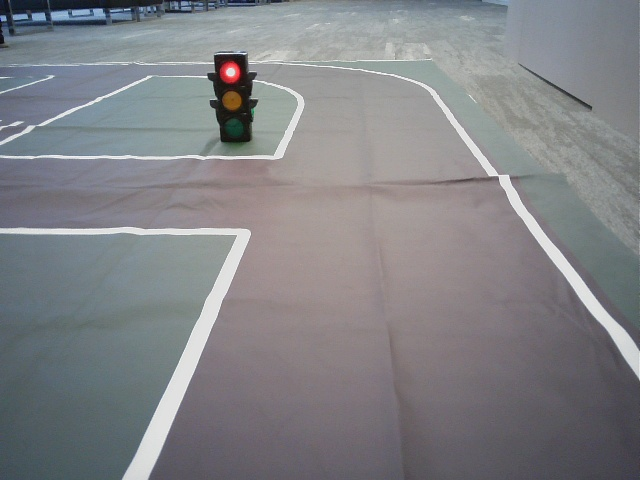red: (217, 56, 248, 139)
